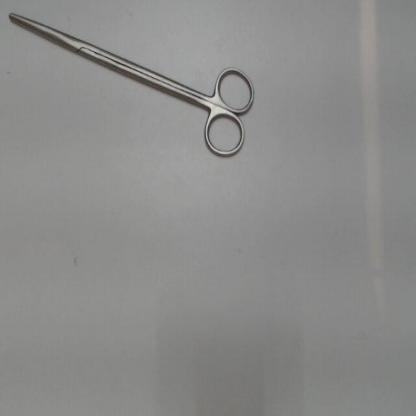9 Metzenbaum Scissors: (5, 5, 265, 166)
